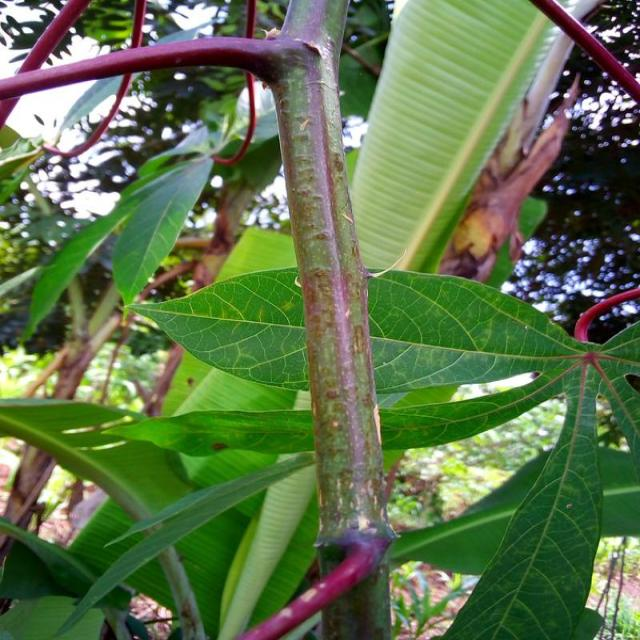cassava leaf: (1, 1, 636, 638), (347, 0, 595, 277), (126, 262, 588, 404)
